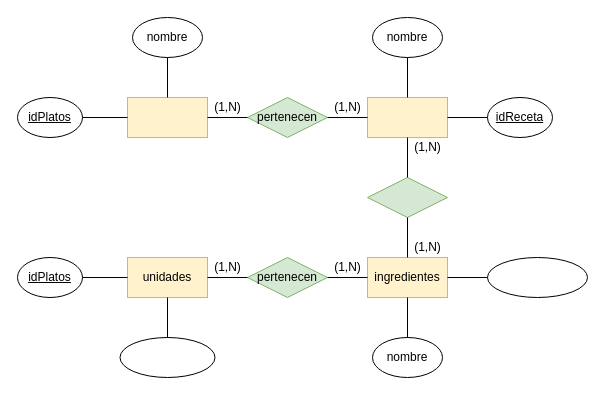
The diagram is 605 pixels wide and 395 high, and some of its shapes have lost their labels. Each missing label, with the centre of its shape:
"idIngredientes" goes at point (537, 277).
"numUnidades" goes at point (167, 357).
"platos" goes at point (167, 117).
"recetas" goes at point (407, 117).
"usan" goes at point (407, 197).
